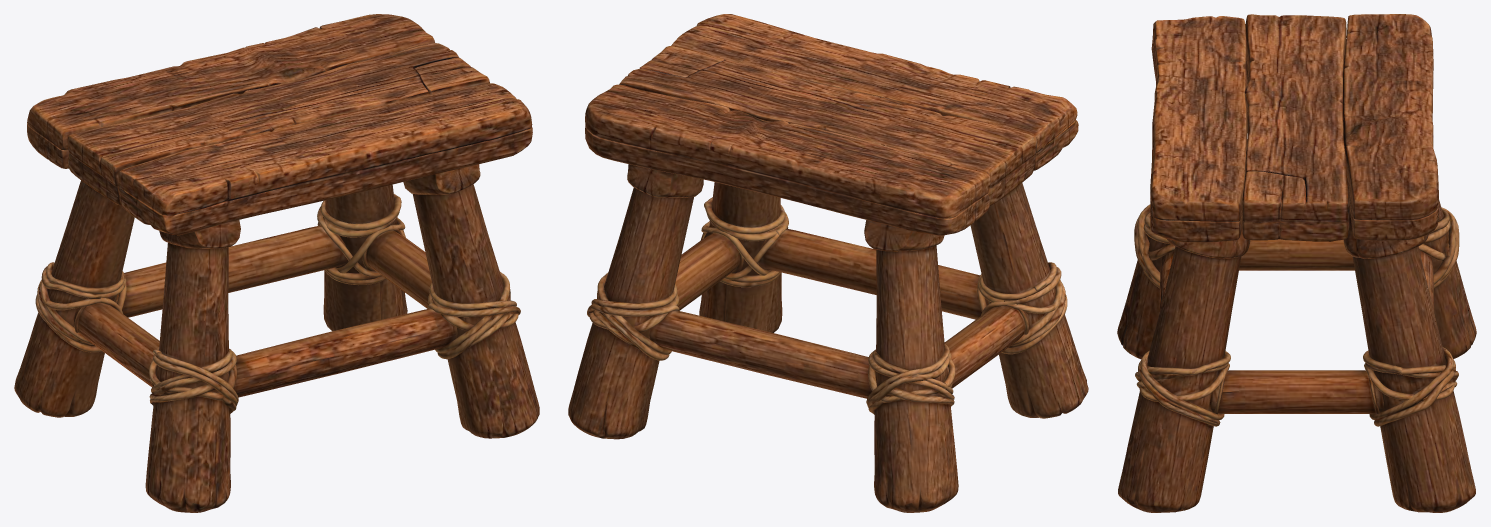
File: ghe-go.glb
The picture shows the model from 3 angles, left to right: view 1: azimuth 30°, elevation 25°; view 2: azimuth 150°, elevation 25°; view 3: azimuth 270°, elevation 25°; orthographic projection. The views are drawn at different scales.
Parts seen in each view (by area): view 1: tripo_4e220035_9643_4ced_9db8_4fae45cabca0; view 2: tripo_4e220035_9643_4ced_9db8_4fae45cabca0; view 3: tripo_4e220035_9643_4ced_9db8_4fae45cabca0.
Part boxes in pixels (x1,y1,x2,y2): tripo_4e220035_9643_4ced_9db8_4fae45cabca0: (14, 14, 539, 512); tripo_4e220035_9643_4ced_9db8_4fae45cabca0: (568, 14, 1088, 512); tripo_4e220035_9643_4ced_9db8_4fae45cabca0: (1117, 14, 1476, 512).
Bounding box in the file's own units: 0.9624 × 0.769 × 0.7651.
Materials: 1 (1 with a texture image).
